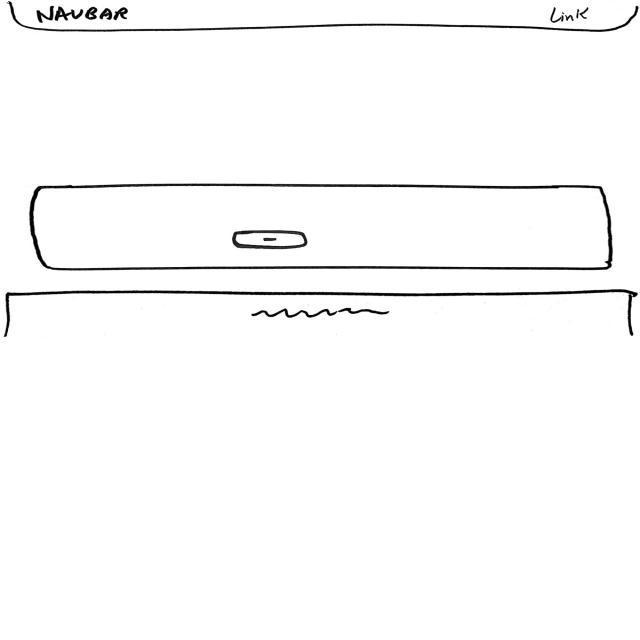container: (30, 184, 617, 273), (9, 1, 640, 34)
icon-button: (231, 231, 309, 252)
label: (36, 7, 131, 27), (549, 6, 592, 24)
text: (251, 306, 392, 319)
